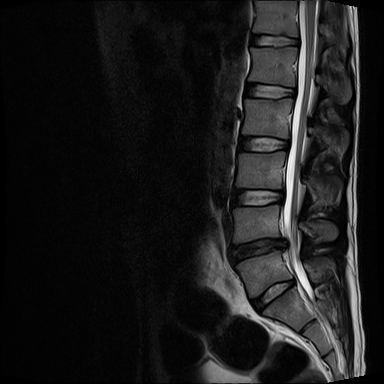Lumbar Disc Bulge LDB: (221, 227, 293, 269)
Normal IVD: (240, 271, 300, 317), (228, 183, 287, 214), (239, 78, 298, 104), (232, 130, 292, 155), (246, 33, 301, 50)
Spinal Stenosis SS: (268, 224, 295, 261)
